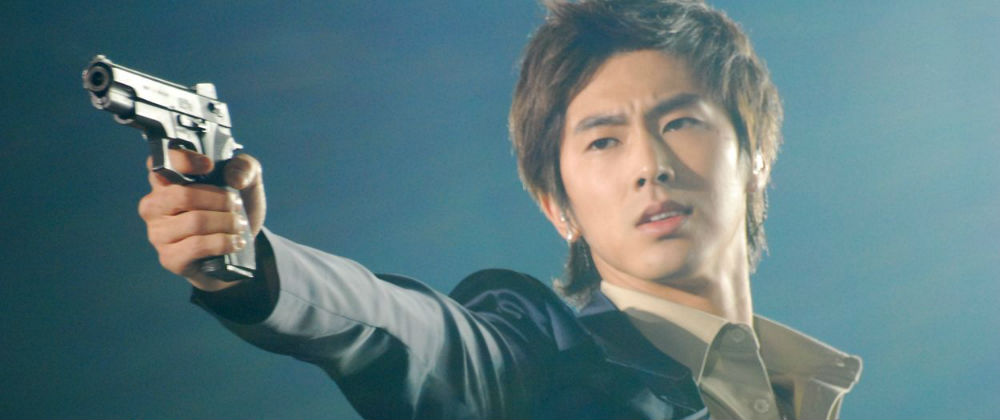gun: (78, 50, 260, 281)
